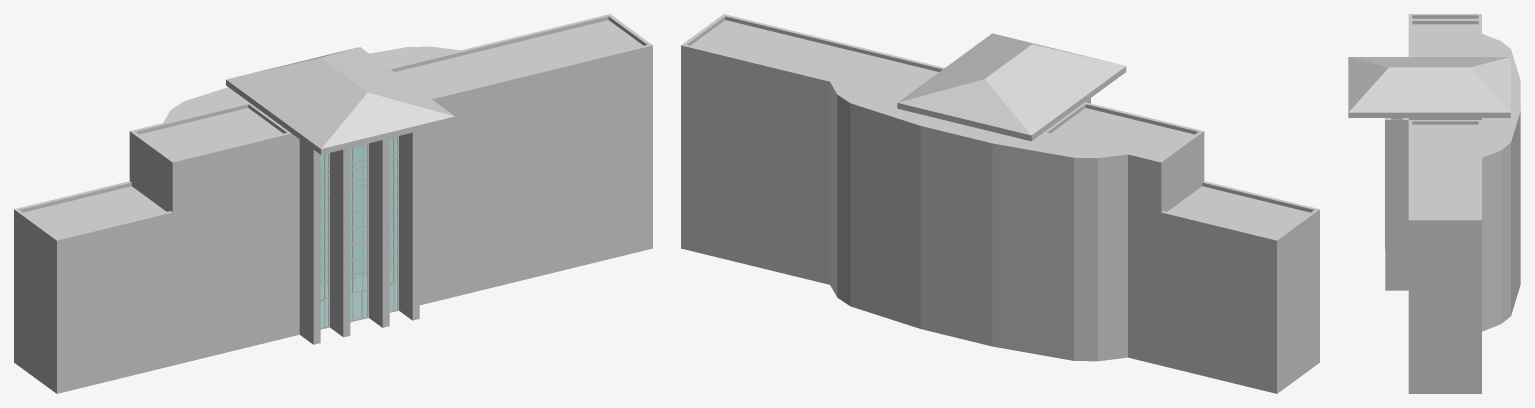
Rendered from Lutgert_main.fbx.
The picture shows the model from 3 angles, left to right: view 1: azimuth 30°, elevation 25°; view 2: azimuth 150°, elevation 25°; view 3: azimuth 270°, elevation 25°; orthographic projection. The views are drawn at different scales.
Visible parts, largest first — view 1: Model; view 2: Model; view 3: Model.
Part boxes in pixels (x1=…): Model: x1=14, y1=14, x2=652, y2=393; Model: x1=681, y1=14, x2=1319, y2=393; Model: x1=1348, y1=14, x2=1520, y2=393.
Size of the model in its own units: 42.59 by 16.17 by 12.47.
